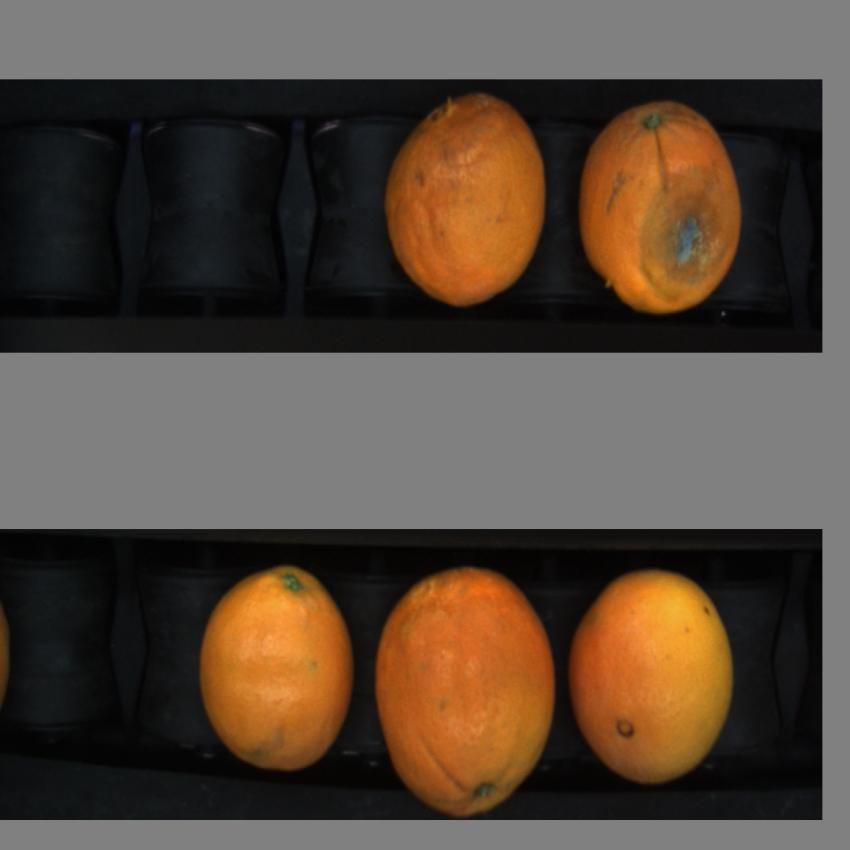Buen estado: (370, 564, 561, 826), (567, 562, 742, 791), (383, 88, 551, 315), (193, 557, 358, 781)
Mal estado: (572, 94, 748, 325)
